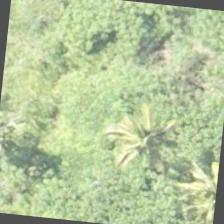Kelapa_Sawit: (93, 94, 192, 193)
